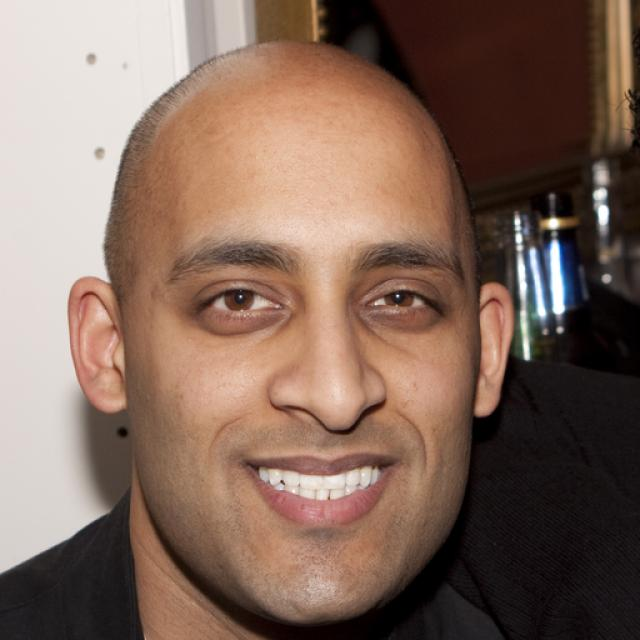Dark Circle: (199, 308, 290, 340), (358, 307, 441, 338)
